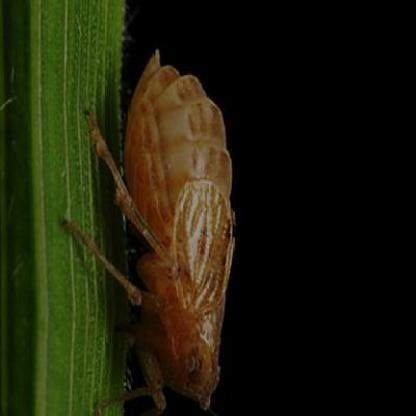brown-planthopper: (112, 44, 236, 406)
